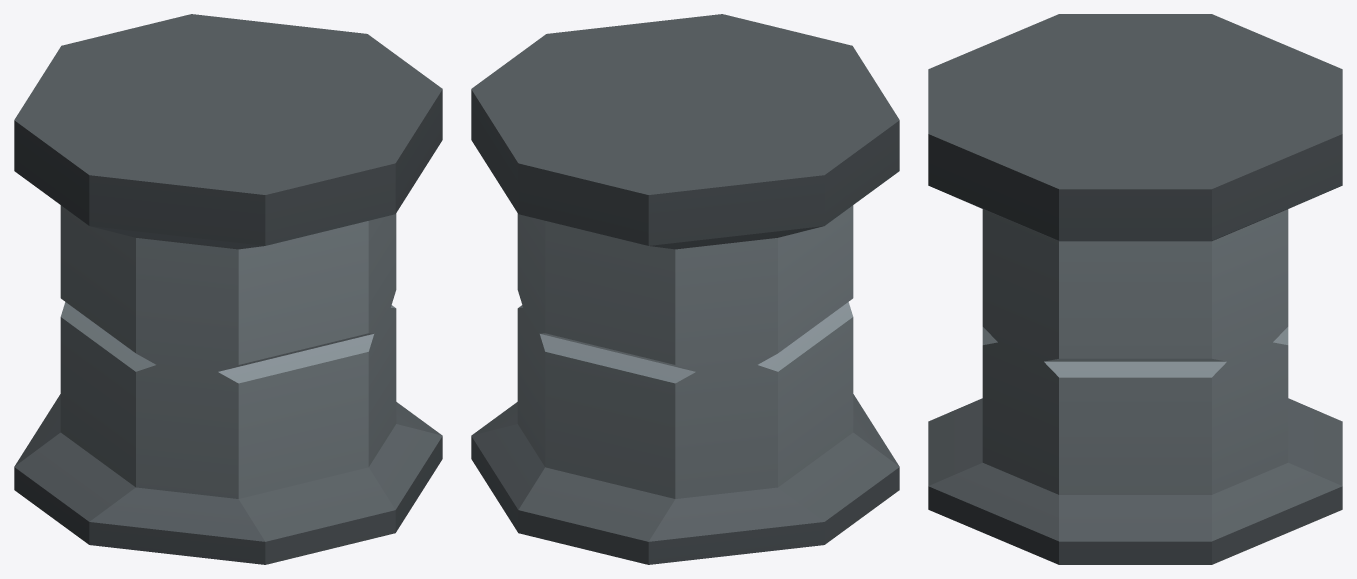
Rendered from pillar.glb.
3 views of the same model, side by side, from view 1: azimuth 30°, elevation 25°; view 2: azimuth 150°, elevation 25°; view 3: azimuth 270°, elevation 25° (orthographic).
Parts seen in each view (by area): view 1: pillar; view 2: pillar; view 3: pillar.
Part boxes in pixels (x1,y1,x2,y2): pillar: [14, 14, 442, 564]; pillar: [471, 14, 899, 564]; pillar: [928, 14, 1342, 564].
Size of the model in its own units: 1 by 1 by 1.
1 material, 1 textured.
